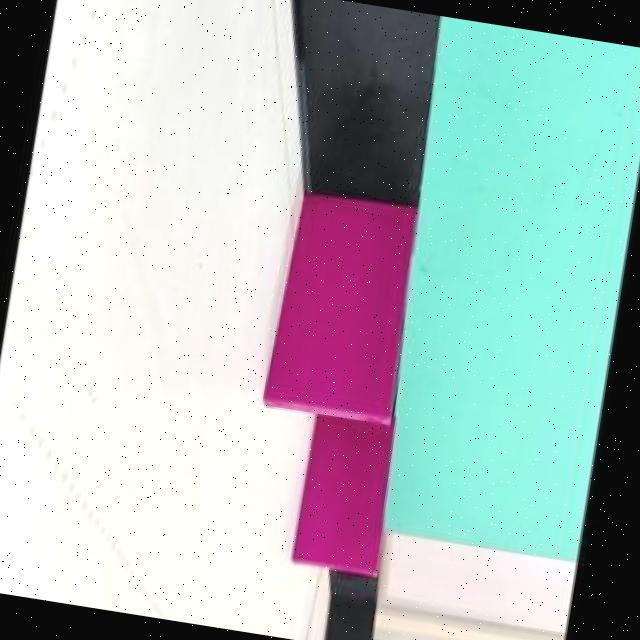xparking: (274, 192, 421, 420), (292, 416, 396, 571)
